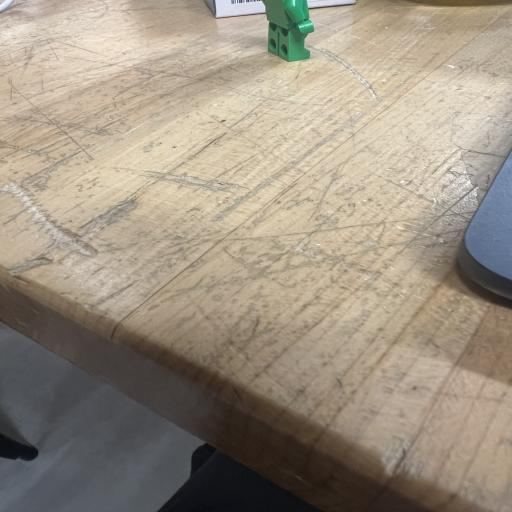green-lego-minifigure-detector: (262, 0, 314, 61)
